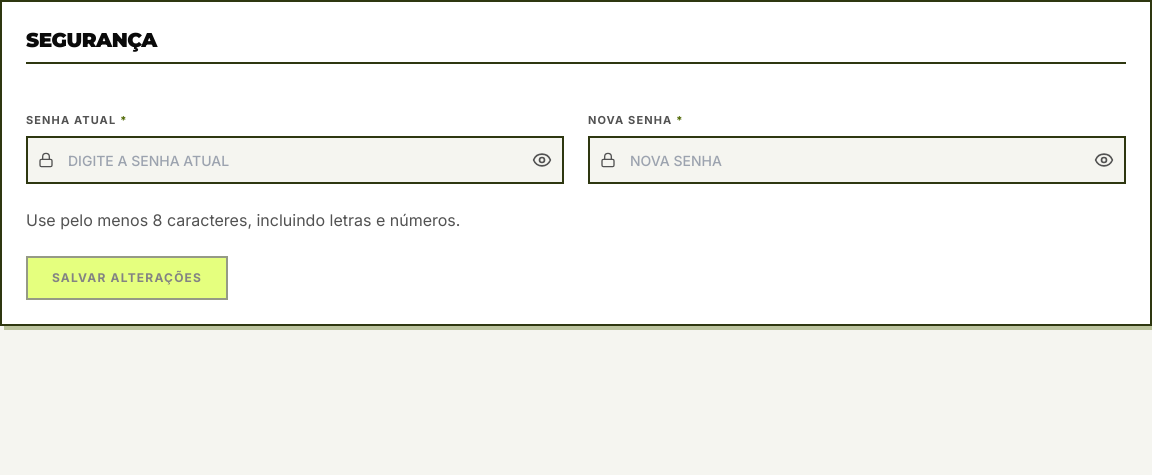
it: Separação das tarefas de perfil e configurações › bloqueia confirmação de senha divergente
Type "Atual123" into the password field labelled "SENHA ATUAL *".
click(295, 160); type("Atual123")  # box x1=26 y1=136 x2=564 y2=184
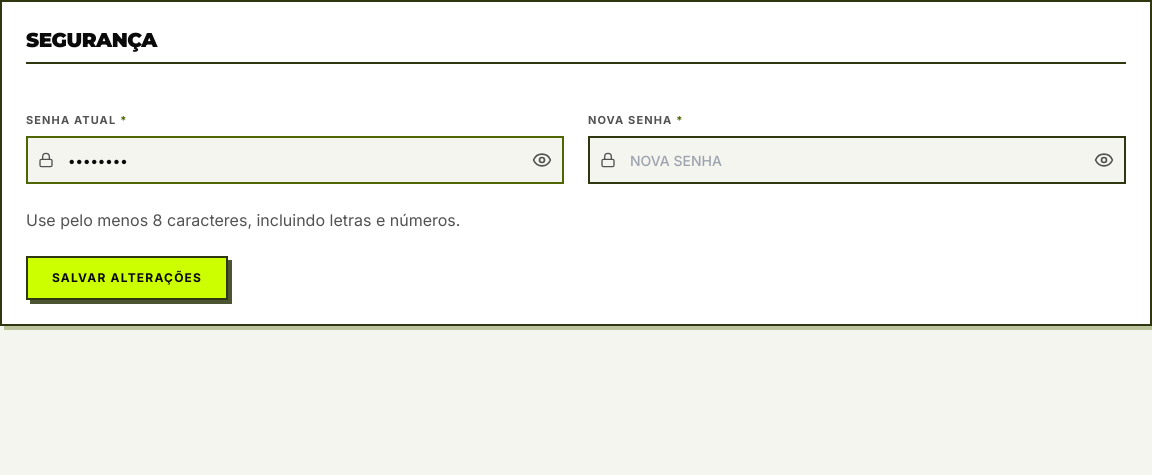
Type "NovaSenha456" into the password field labelled "NOVA SENHA *".
click(857, 160); type("NovaSenha456")  # box x1=588 y1=136 x2=1126 y2=184
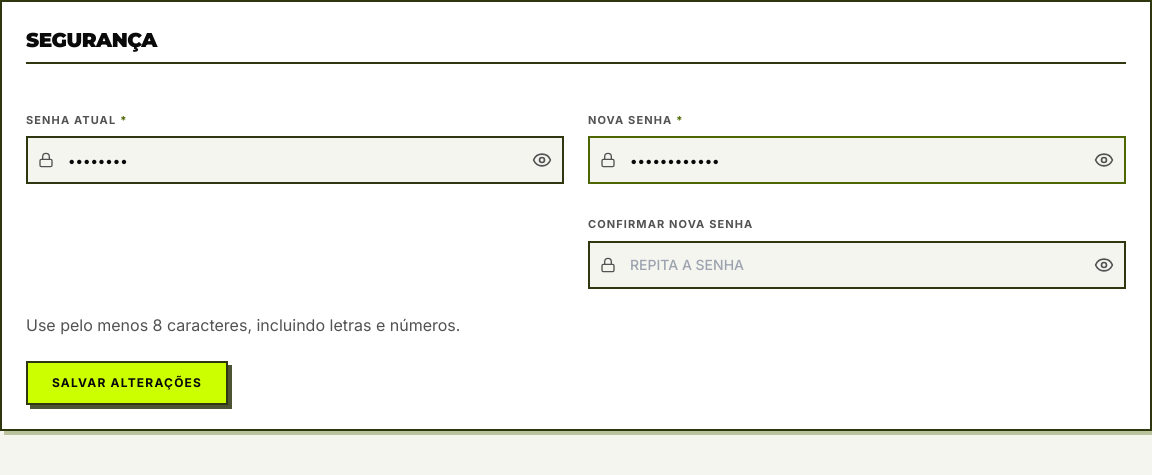
Type "Diferente456" into the password field labelled "CONFIRMAR NOVA SENHA".
click(857, 264); type("Diferente456")  # box x1=588 y1=240 x2=1126 y2=288
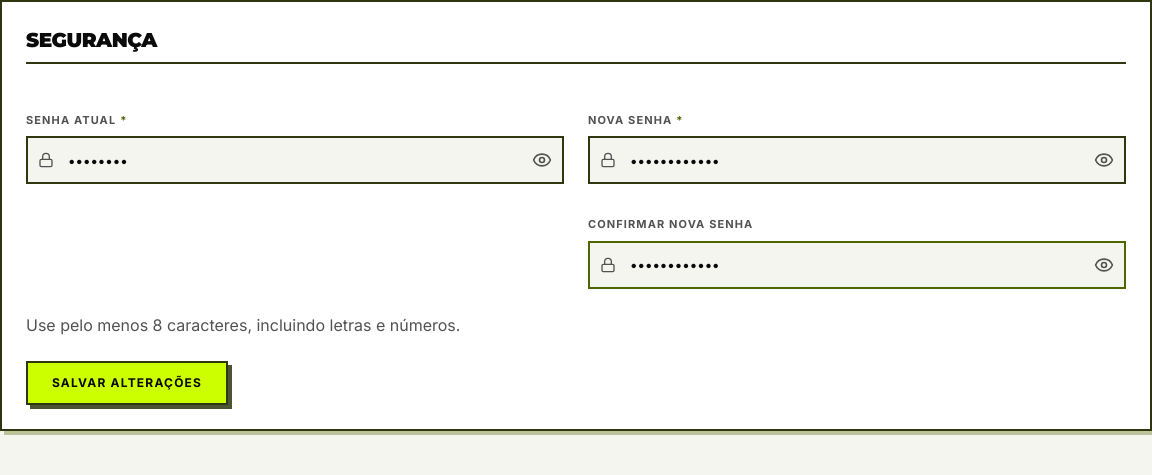
Click the button "SALVAR ALTERAÇÕES".
click(127, 382)  # box x1=26 y1=360 x2=228 y2=404
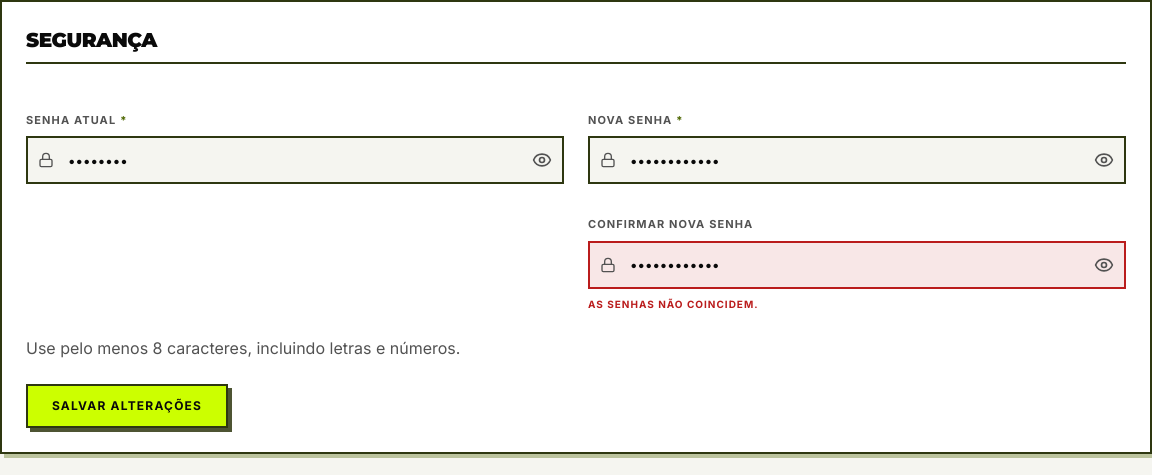
Check: the text "AS SENHAS NÃO COINCIDEM." is shown, box x1=588 y1=298 x2=759 y2=310
